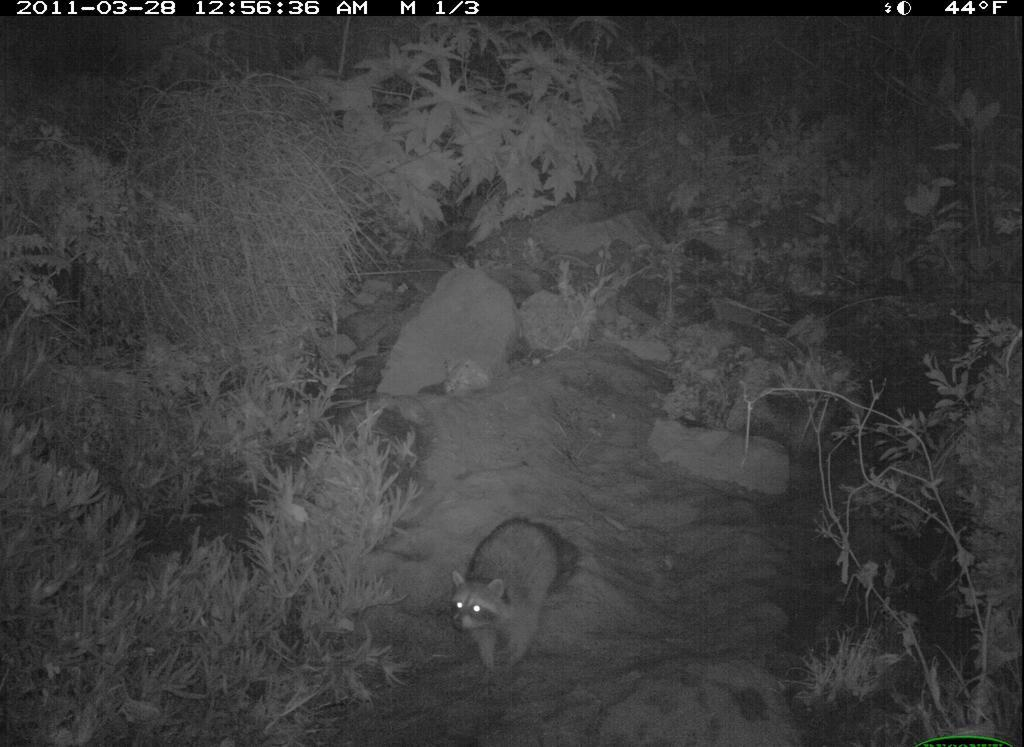raccoon: (446, 509, 588, 679)
